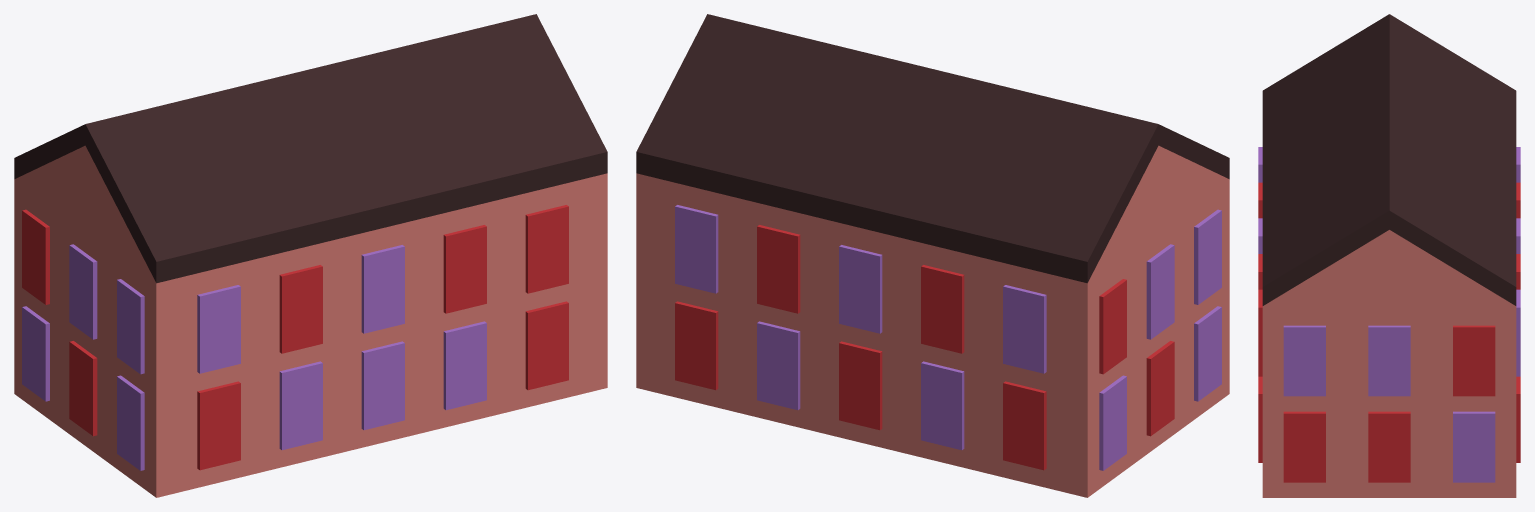
File: house1.fbx
The picture shows the model from 3 angles, left to right: view 1: azimuth 30°, elevation 25°; view 2: azimuth 150°, elevation 25°; view 3: azimuth 270°, elevation 25°; orthographic projection. The views are drawn at different scales.
Parts seen in each view (by area): view 1: Cube; view 2: Cube; view 3: Cube.
Boxes of the visible parts, x1,y1,x2,y2 form: Cube: (14, 14, 607, 497); Cube: (636, 14, 1229, 497); Cube: (1258, 14, 1520, 497).
Size of the model in its own units: 1120 by 750 by 620.
